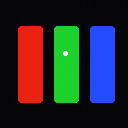0 point: (63, 51, 67, 55)
